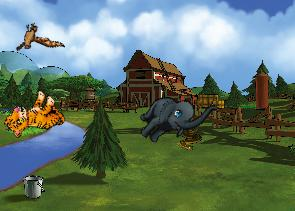eagle: (8, 14, 65, 64)
elephant: (131, 73, 218, 162)
tiger: (0, 83, 70, 152)
